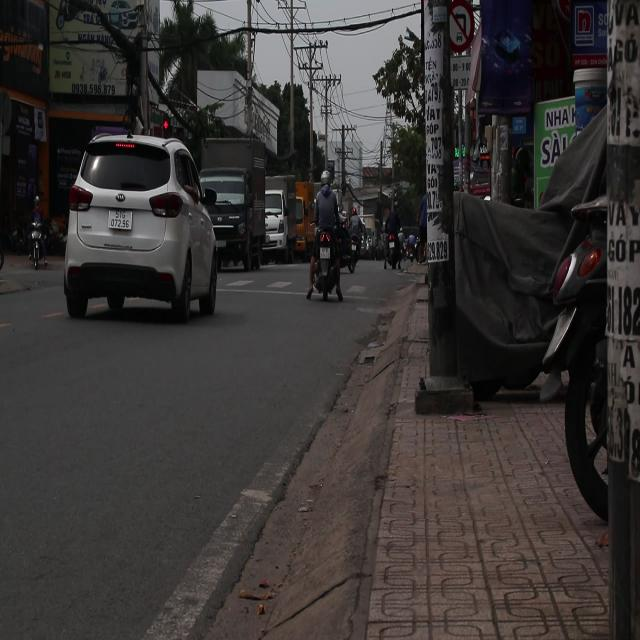car: (63, 134, 221, 323)
motorbike: (309, 209, 353, 314), (21, 193, 50, 287), (337, 217, 370, 276), (382, 203, 402, 280)
truck: (198, 138, 268, 272), (264, 178, 300, 263)
